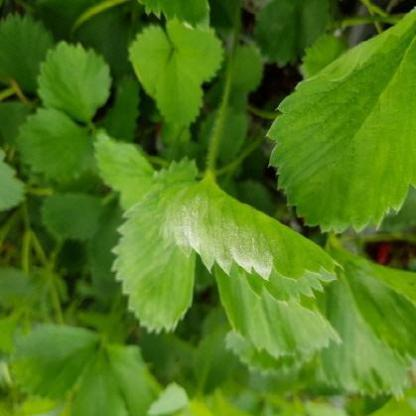Strawberry_Powdery_Mildew_Leaf: (154, 170, 344, 305)
